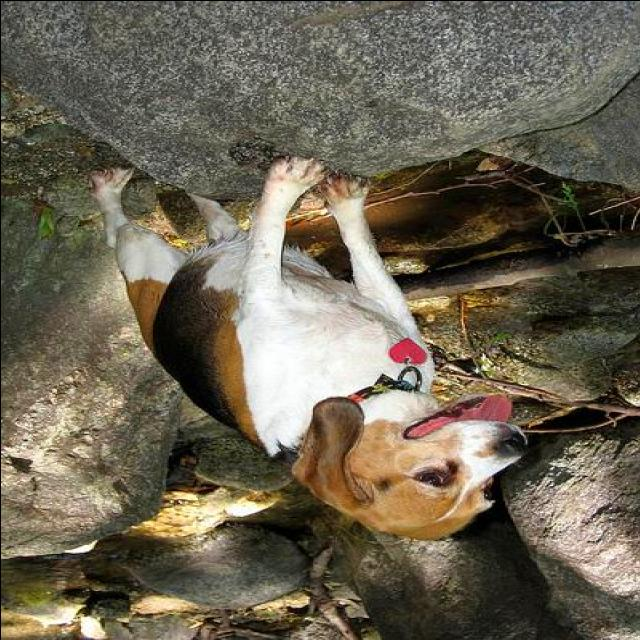beagle: (83, 152, 523, 549)
